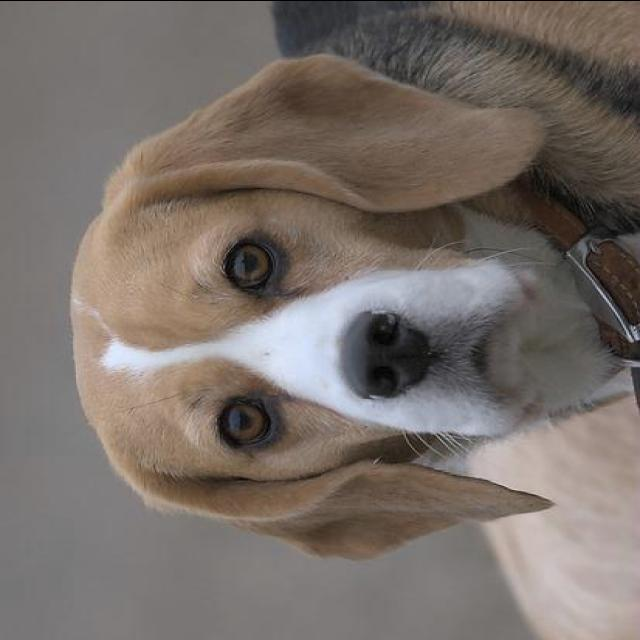beagle: (65, 2, 637, 564)
